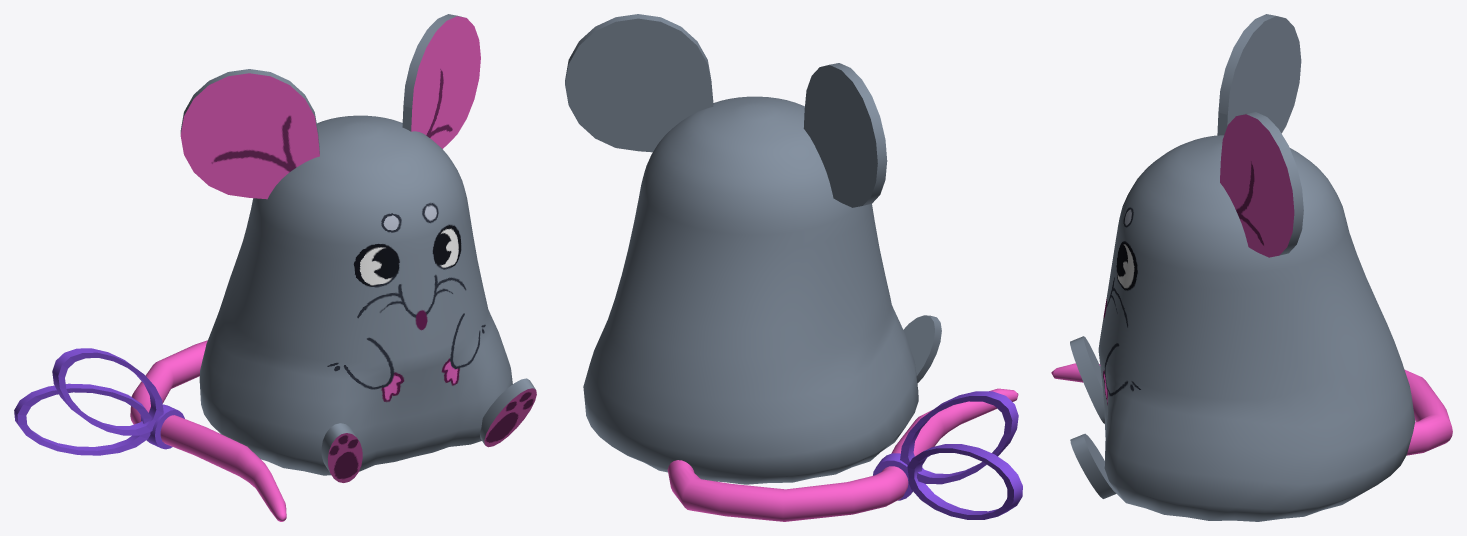
The model's file is Mousey_fixed.fbx.
3 renders of one model, left to right at view 1: azimuth 30°, elevation 25°; view 2: azimuth 150°, elevation 25°; view 3: azimuth 270°, elevation 25°, orthographic. The views are drawn at different scales.
Visible parts, largest first — view 1: Mouse1; view 2: Mouse1; view 3: Mouse1.
Boxes of the visible parts, box(x1,y1,x2,y2) form: Mouse1: box(14, 14, 536, 521); Mouse1: box(565, 14, 1022, 521); Mouse1: box(1051, 14, 1452, 521).
Bounding box in the file's own units: 3.74 × 3 × 2.72.
